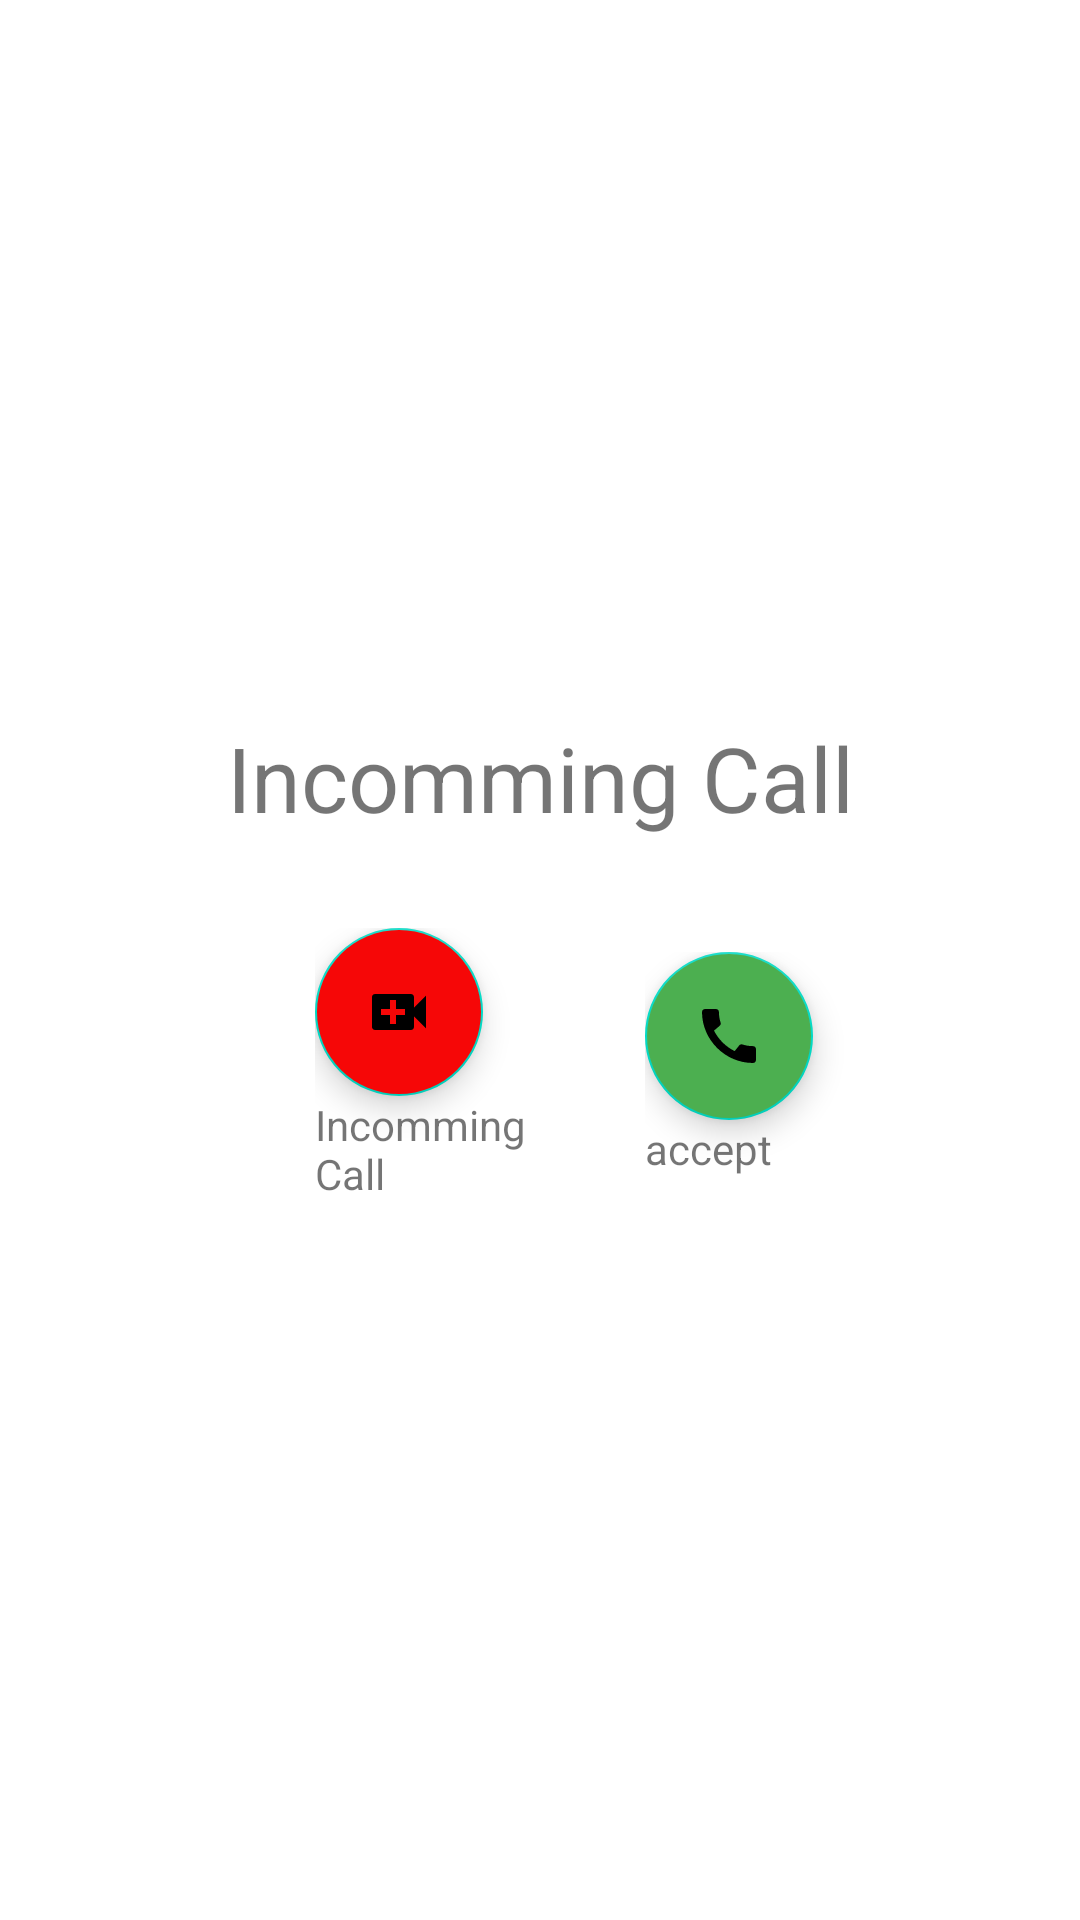

Point at icon controls on the screen. Image size 1080*1920, points as [x,y].
video call: [399,1012]
